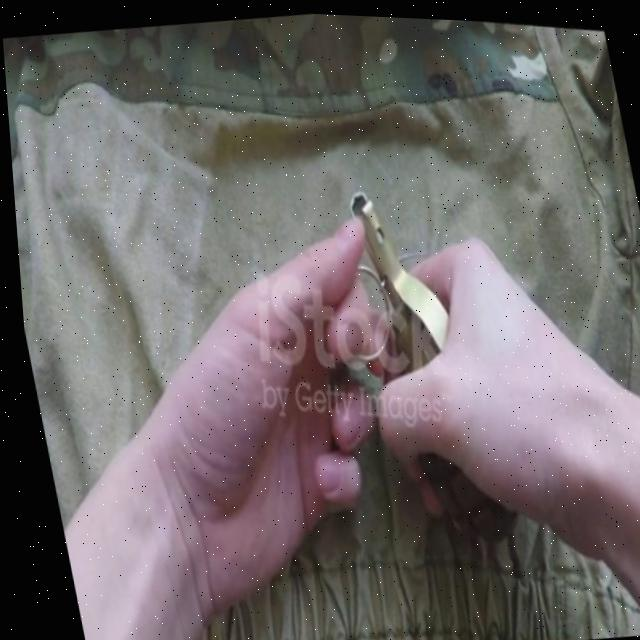grenade: (292, 165, 566, 557)
